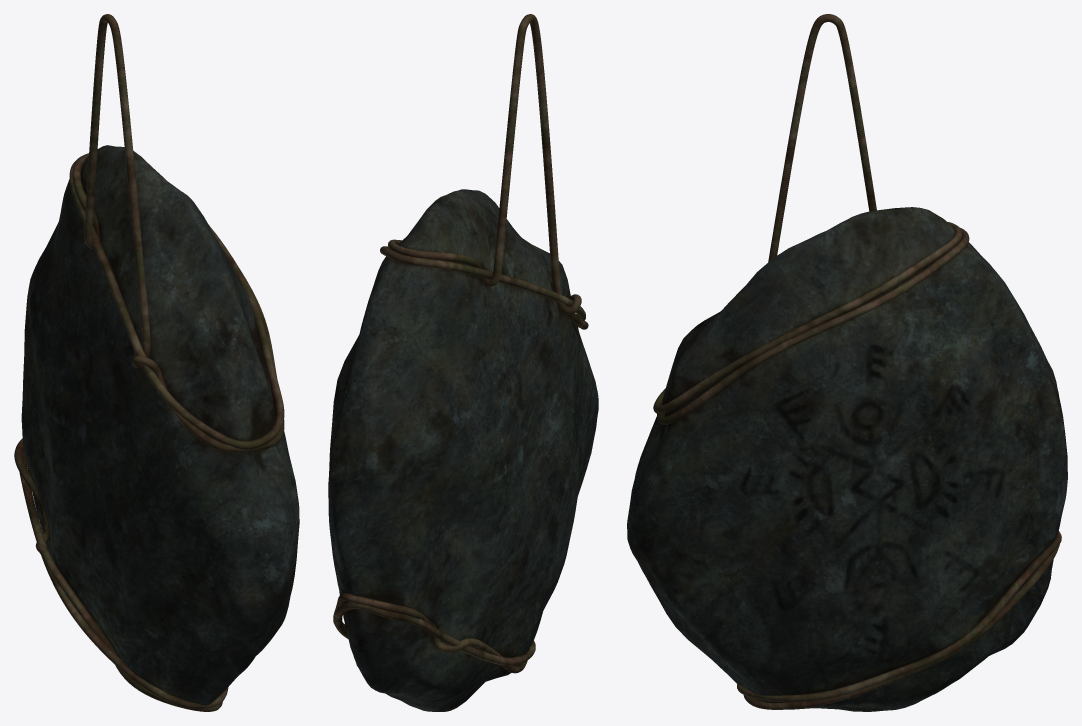
The model's file is Talisman.fbx.
The picture shows the model from 3 angles, left to right: view 1: azimuth 30°, elevation 25°; view 2: azimuth 150°, elevation 25°; view 3: azimuth 270°, elevation 25°; orthographic projection. The views are drawn at different scales.
Parts seen in each view (by area): view 1: Rock, Rope_01, Rope_02; view 2: Rock, Rope_01, Rope_02; view 3: Rock, Rope_01, Rope_02.
Boxes of the visible parts, bbox=[...] form: Rock: bbox=[21, 145, 299, 705]; Rope_01: bbox=[69, 14, 284, 452]; Rope_02: bbox=[14, 438, 228, 711]; Rock: bbox=[328, 189, 598, 711]; Rope_01: bbox=[380, 14, 588, 329]; Rope_02: bbox=[333, 593, 535, 673]; Rock: bbox=[627, 207, 1067, 711]; Rope_01: bbox=[653, 14, 969, 424]; Rope_02: bbox=[737, 531, 1061, 709].
Size of the model in its own units: 202 by 919 by 547.
